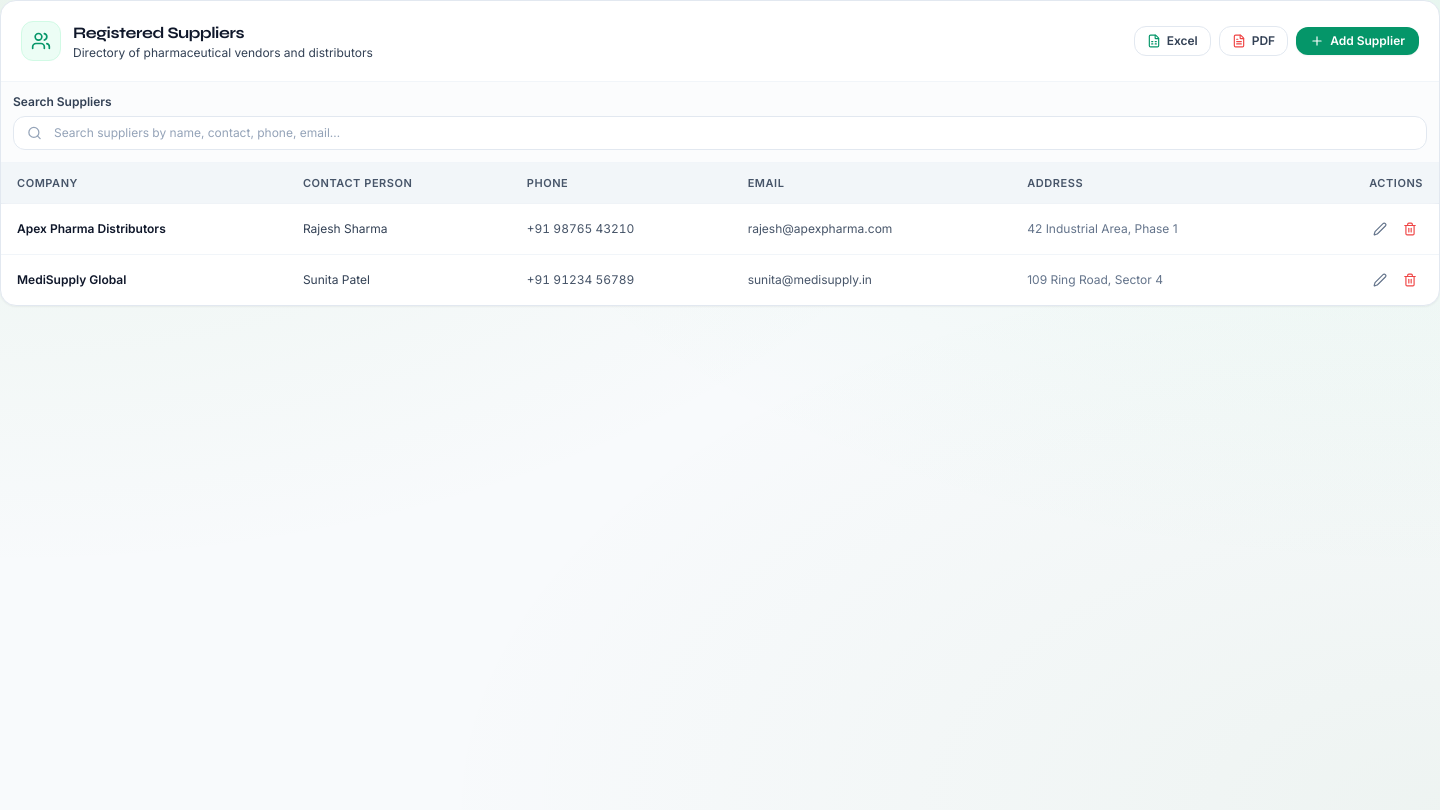
Test: components/suppliers/SupplierList.jsx › opens add supplier modal when "Add Supplier" button is clicked
expect the text "Apex Pharma Distributors" is shown: met, box x1=1 y1=204 x2=287 y2=254
Click the button "Add Supplier" at (1358, 41), box x1=1296 y1=27 x2=1419 y2=55
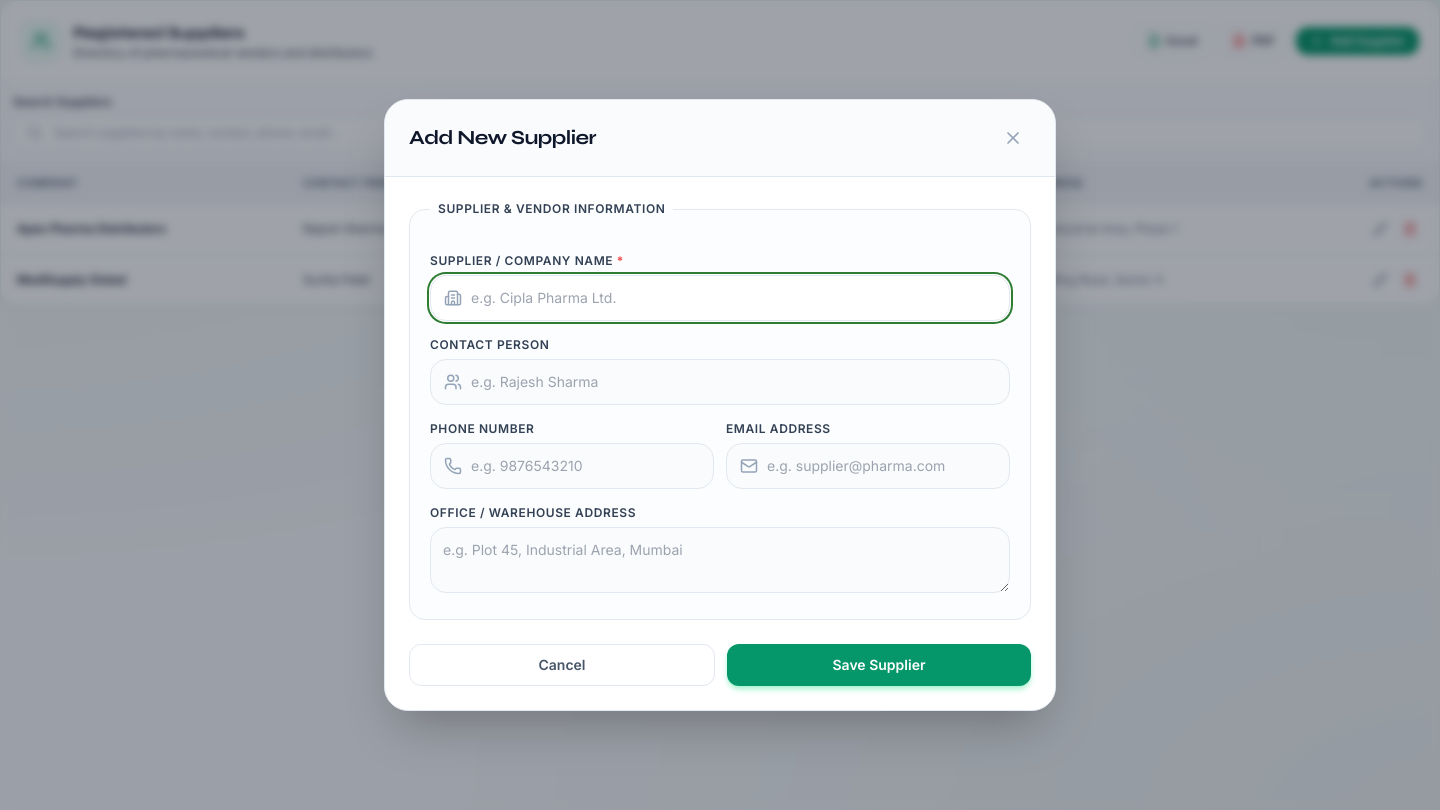
expect the heading "Add New Supplier" is shown: met, box x1=409 y1=124 x2=596 y2=152
expect the field labelled "Supplier / Company Name *" is shown: met, box x1=430 y1=275 x2=1010 y2=321
expect the field labelled "Contact Person" is shown: met, box x1=430 y1=359 x2=1010 y2=405
